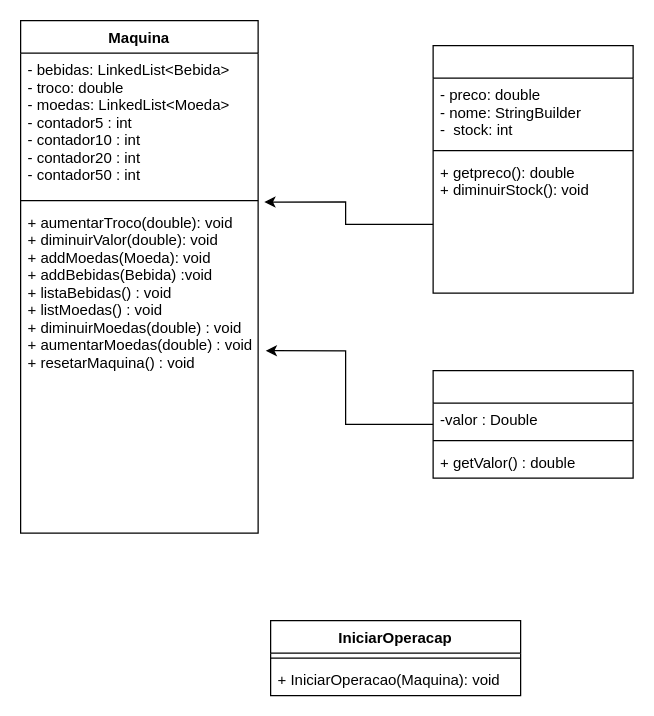
Some shapes in this 654 by 716 pixel diagram are drawn without their labels. Here are the shapes that lost their labels. From the top down, the box of each, then its label:
(432, 44, 633, 293): Bebida
(432, 369, 633, 478): Moeda
